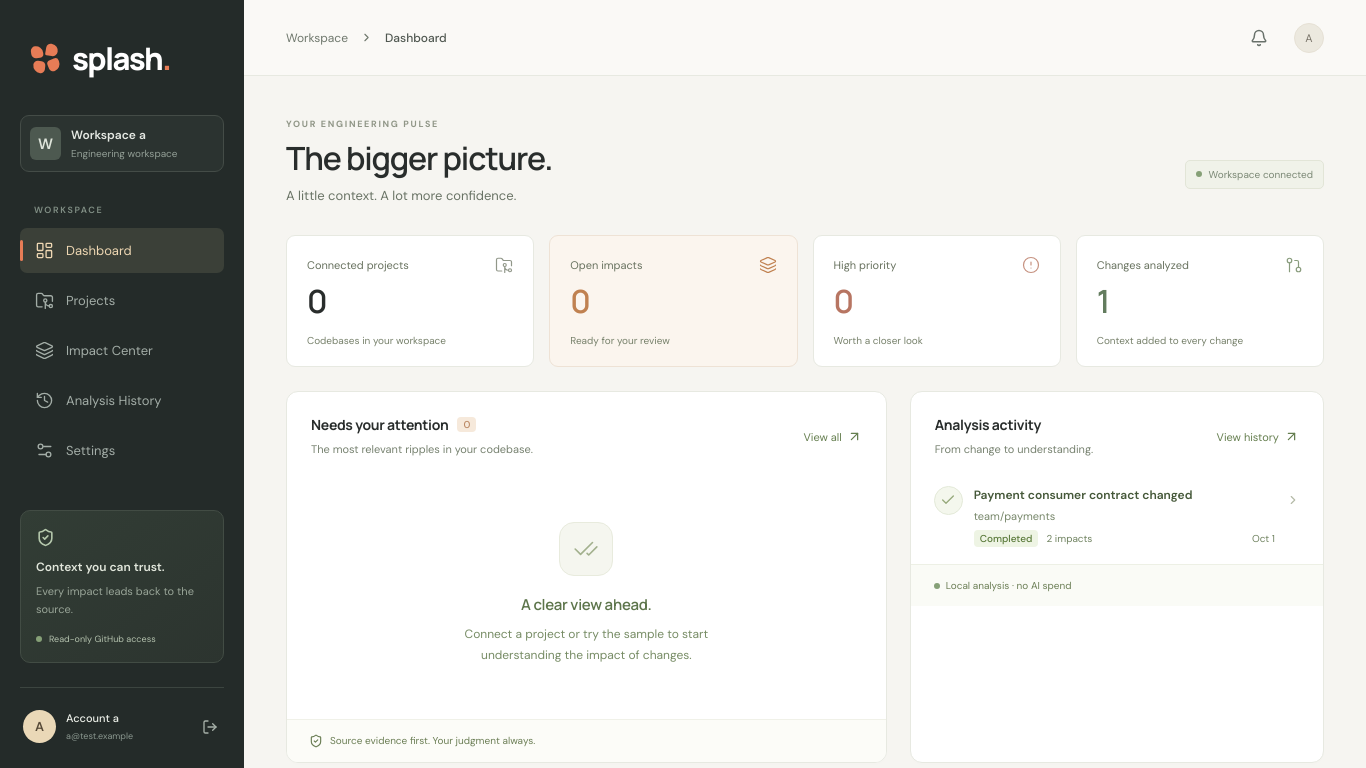
Scenario: Run details › fetches full run details with authentication and prevents a pending private report from downloading after account switch
Click the button "Payment consumer contract changed". click: (1083, 495)
box: [934,478,1300,564]
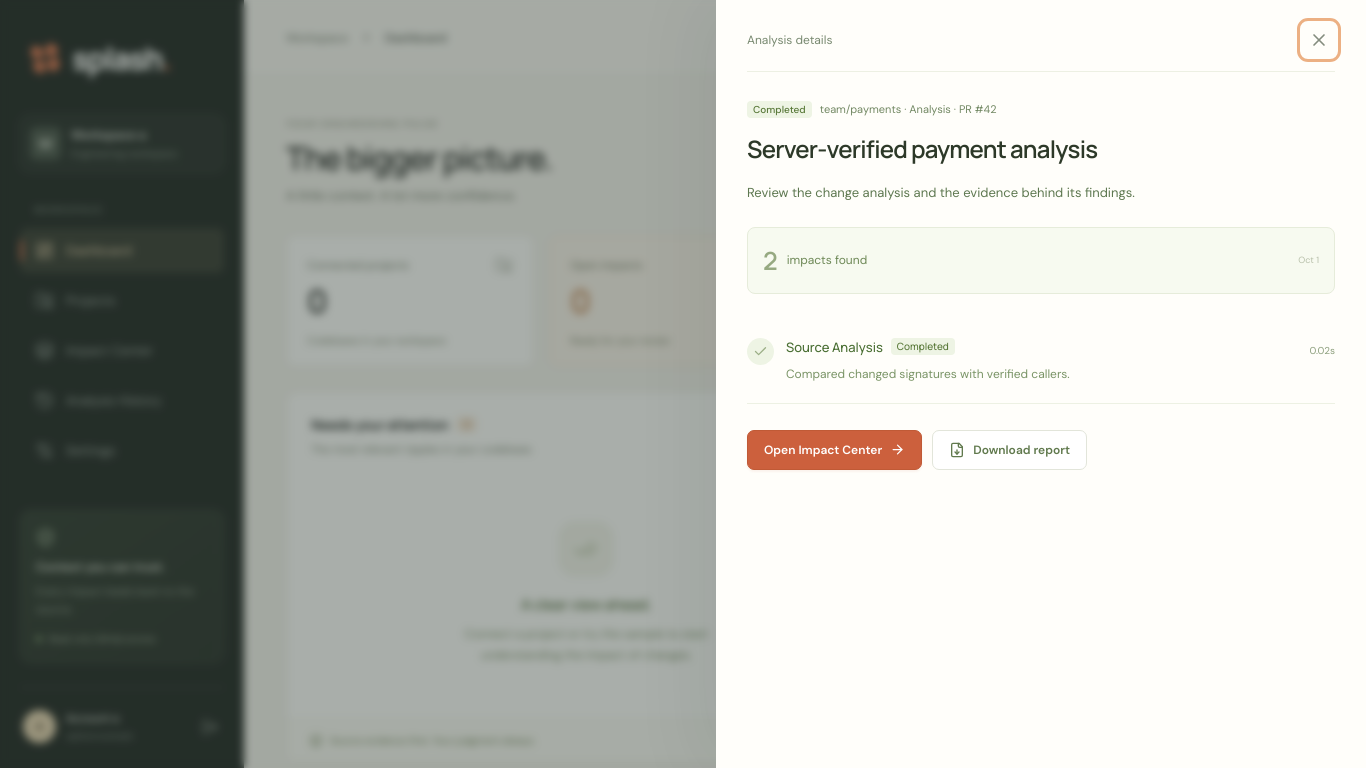
Check: the heading "Server-verified payment analysis" is shown, box [747,132,1097,165]
Check: the text "Compared changed signatures with verified callers." is shown, box [786,366,1070,382]
Click the button "Download report". click: (1010, 450)
box: [932,430,1087,470]
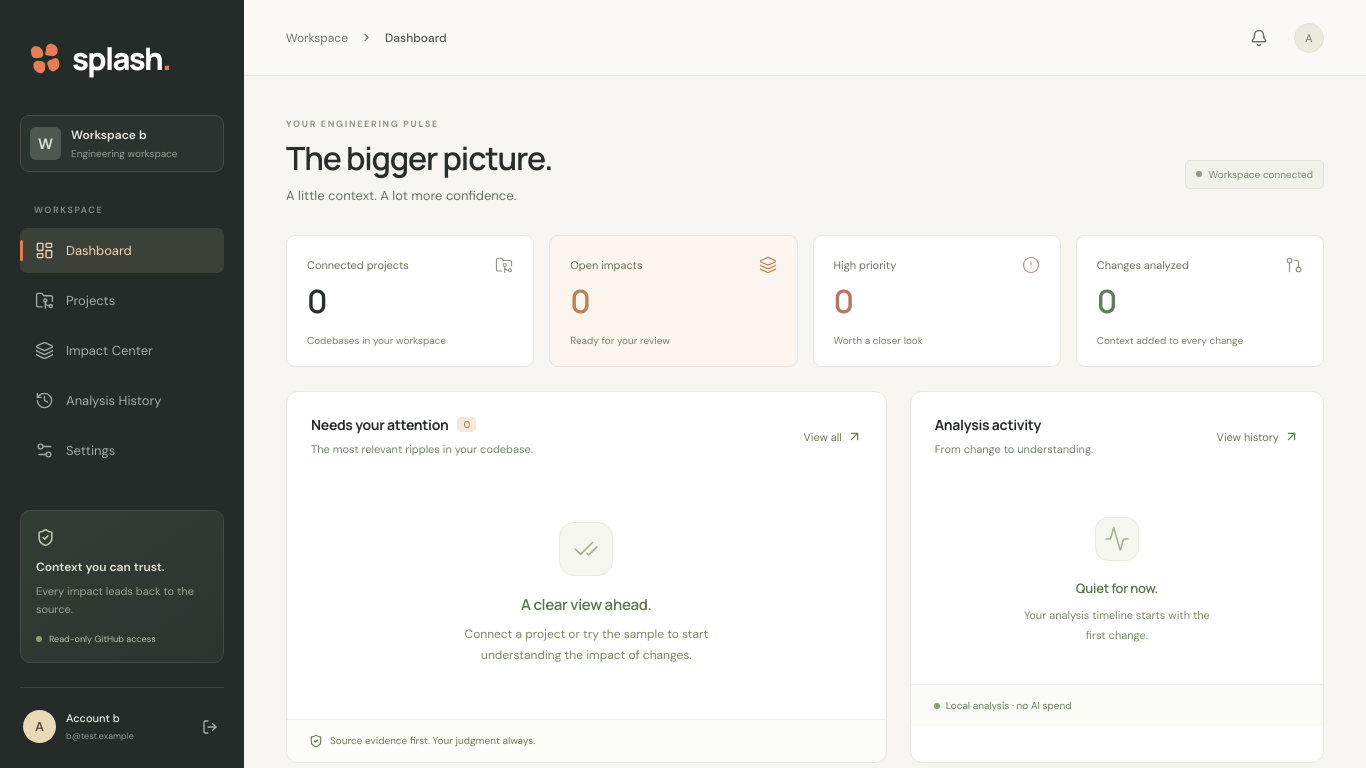
Check: the dialog is gone
Check: the text "Workspace b" is shown, box [71,127,147,143]
Check: the heading "Server-verified payment analysis" is gone
